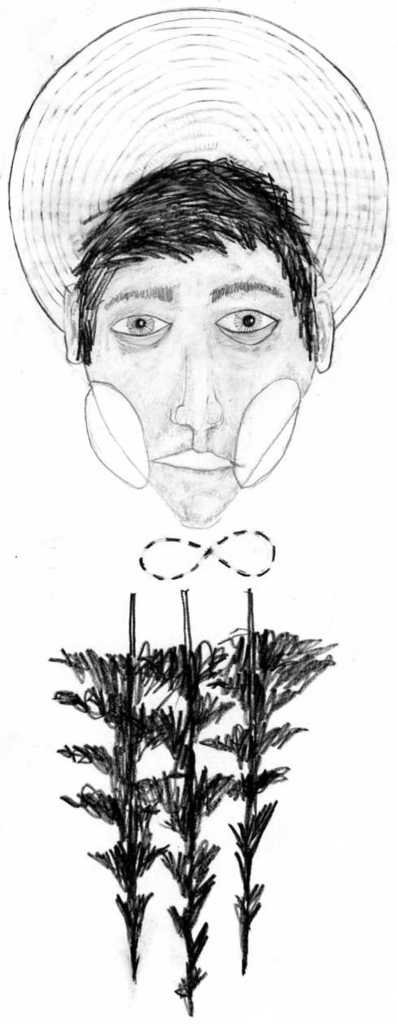Person: (56, 151, 339, 524)
